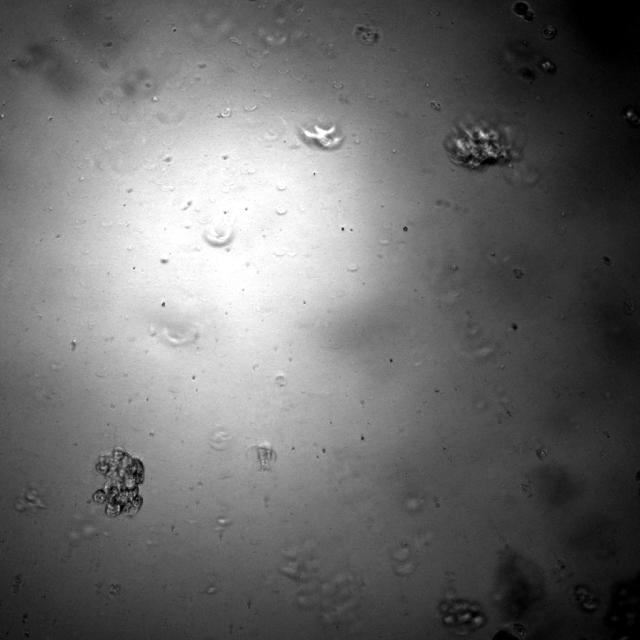organoid: (444, 118, 522, 170), (92, 446, 144, 517), (492, 552, 544, 619), (438, 597, 487, 634), (300, 123, 344, 150), (574, 585, 599, 612), (492, 622, 527, 639), (513, 1, 534, 21), (538, 57, 556, 74), (516, 66, 535, 81), (541, 24, 556, 39)
